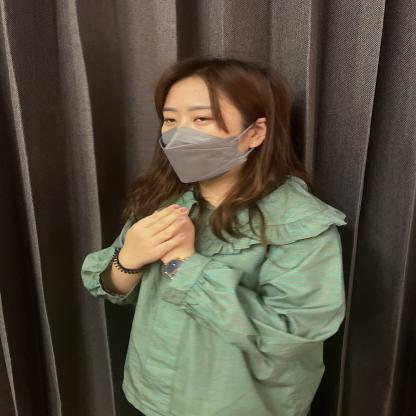Grieve: (76, 165, 231, 295)
